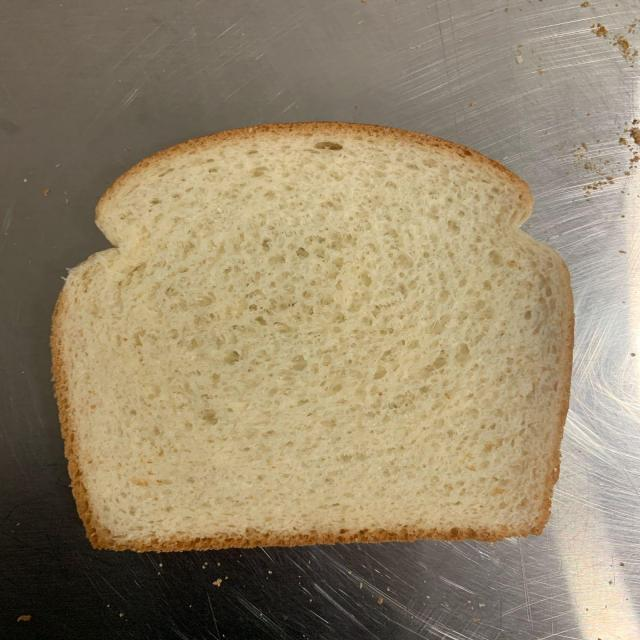pan: (51, 122, 576, 549)
